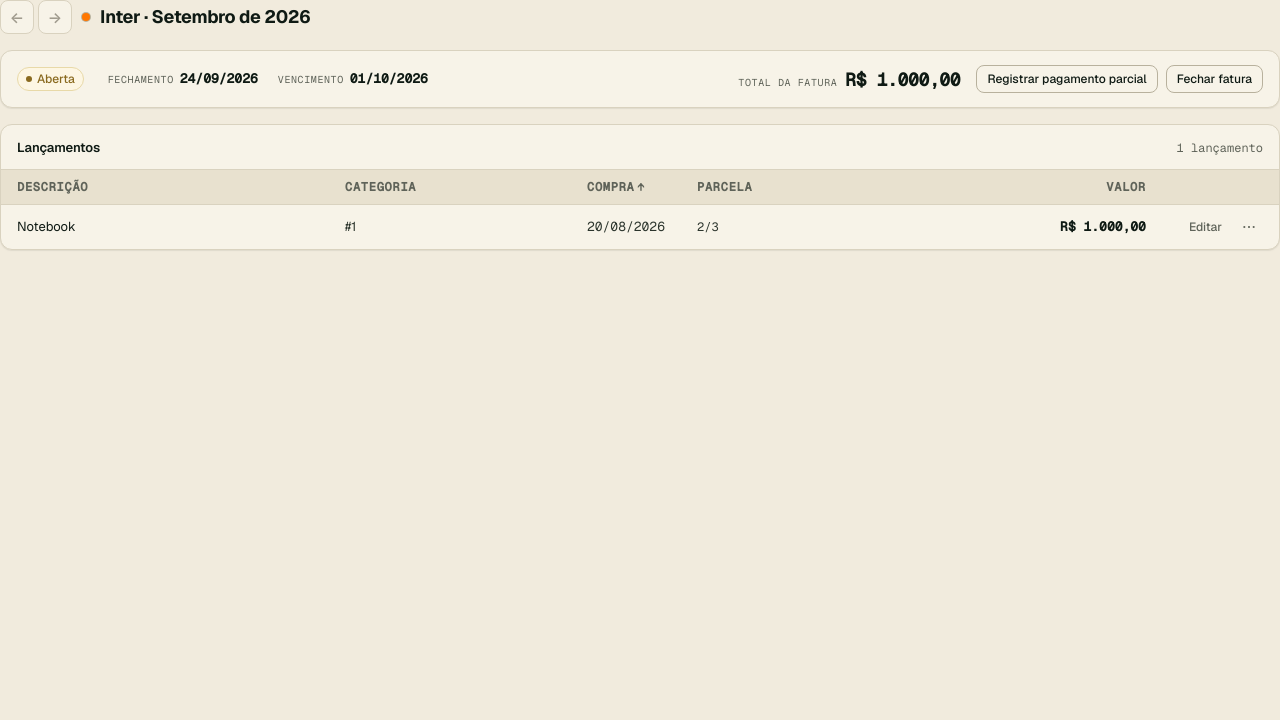
Test: FaturaDetalhe — confirmar a exclusão da despesa › parcelada: o valor da compra e em quantas parcelas
The width and height of the screenshot is (1280, 720).
Click the button named "Mais ações": click(1249, 227) [1235,213,1263,241]
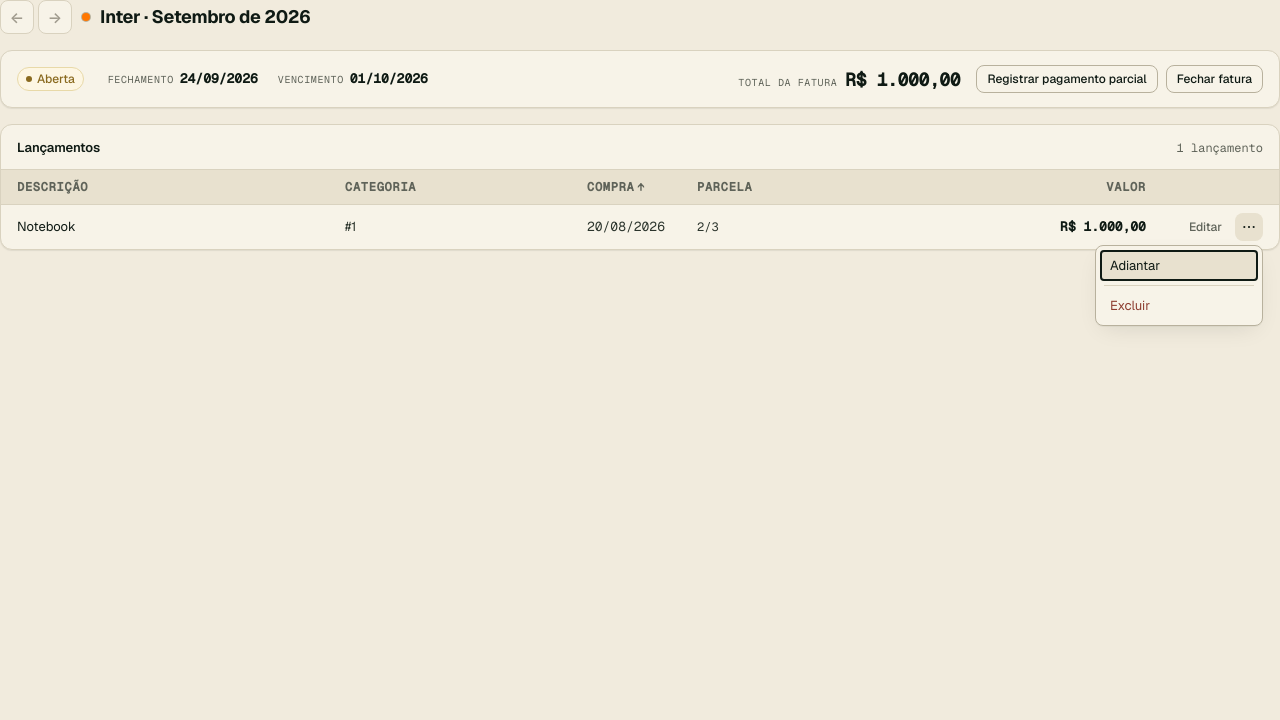
Click the menu item "Excluir": click(1179, 306) [1100,290,1258,321]
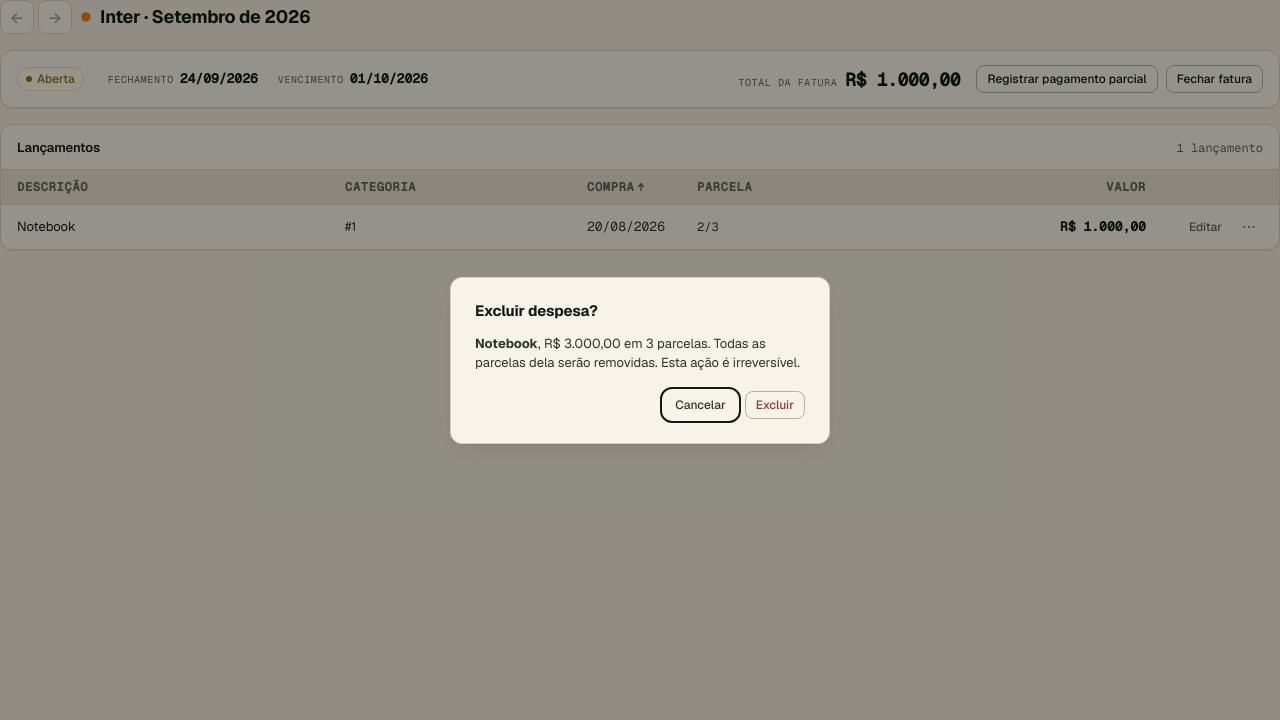
Now the dialog "Excluir despesa?" shows "Todas as parcelas dela serão removidas.", box [475,334,766,371]
